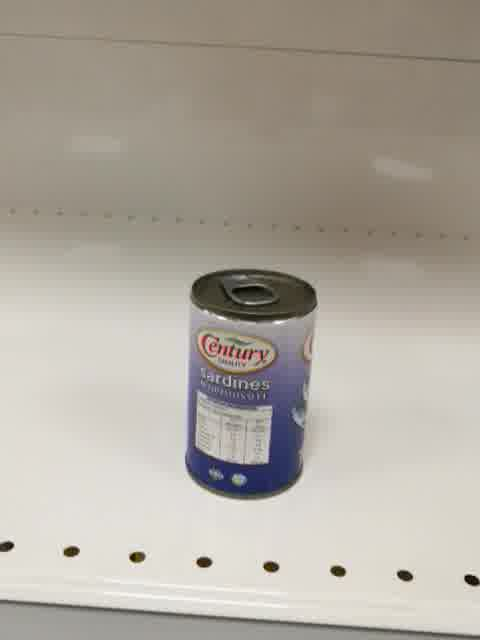sardine: (184, 267, 318, 501)
